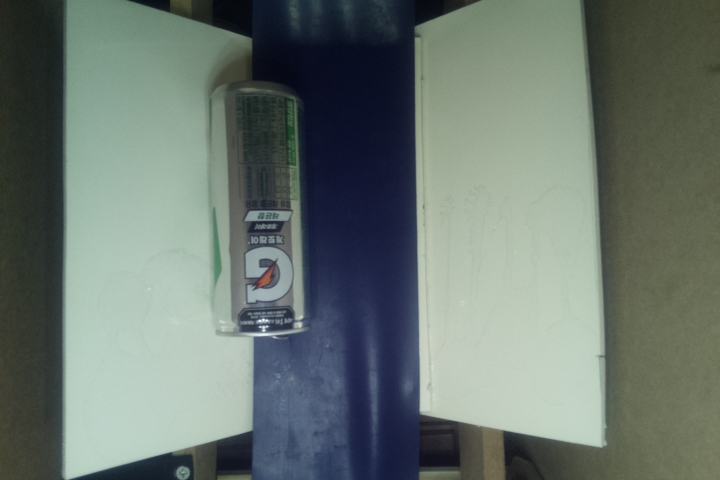can: (207, 80, 309, 341)
